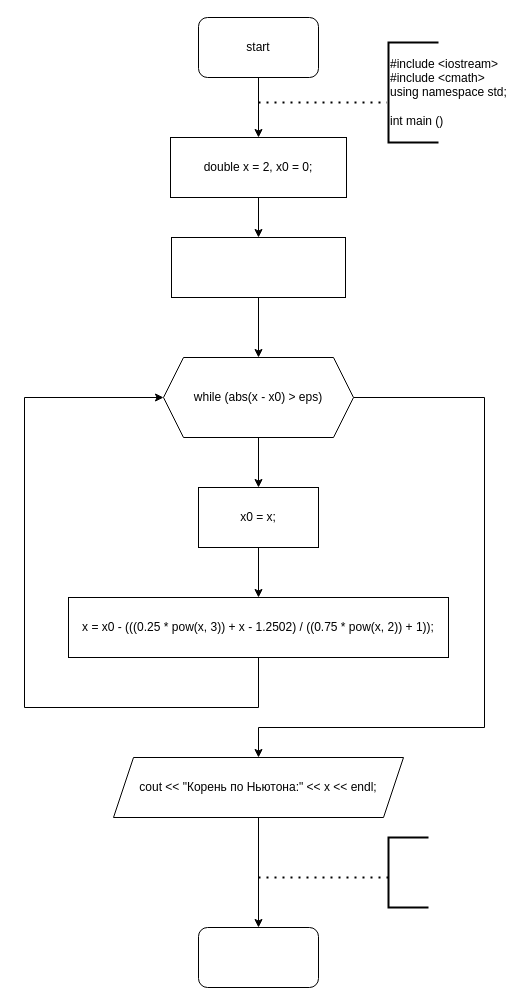
Image size: 525x1005. Some labels were removed from this diagram. The centre of each missing label's shape, as x and y in pixels:
double eps = 0.000001;: pixel 258 267
end: pixel 258 957
return 0;: pixel 408 872
